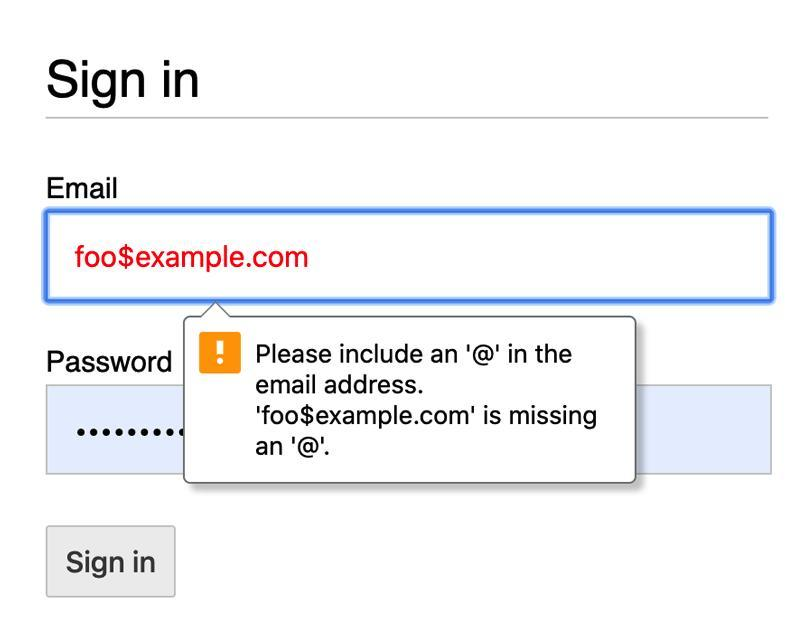button: (47, 525, 178, 598)
input: (46, 208, 773, 303)
label: (45, 61, 214, 105), (40, 346, 176, 381), (43, 171, 125, 204)
